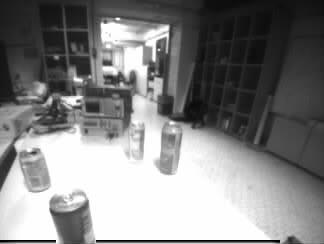Tin can: (50, 190, 94, 244), (22, 147, 48, 189), (160, 122, 180, 174), (129, 120, 143, 159)
